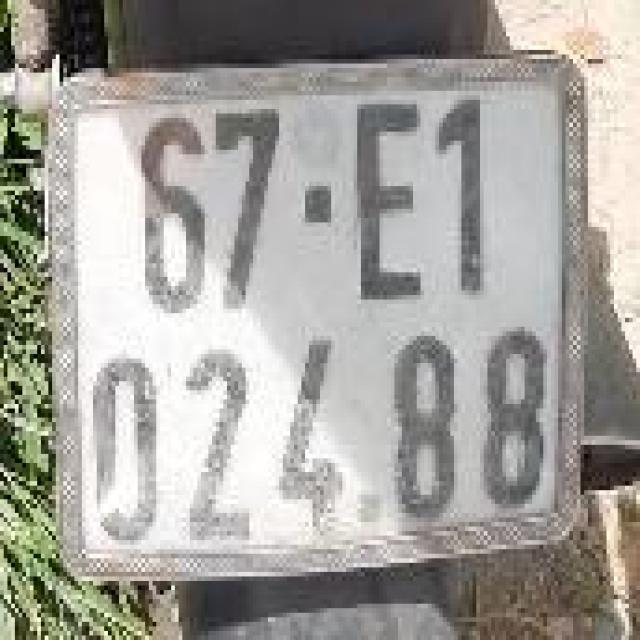0: (72, 336, 166, 545)
1: (443, 84, 502, 297)
2: (177, 327, 266, 554)
4: (272, 329, 354, 556)
6: (130, 95, 212, 318)
7: (202, 91, 284, 327)
8: (389, 311, 467, 547), (476, 308, 551, 518)
E: (354, 91, 436, 318)
